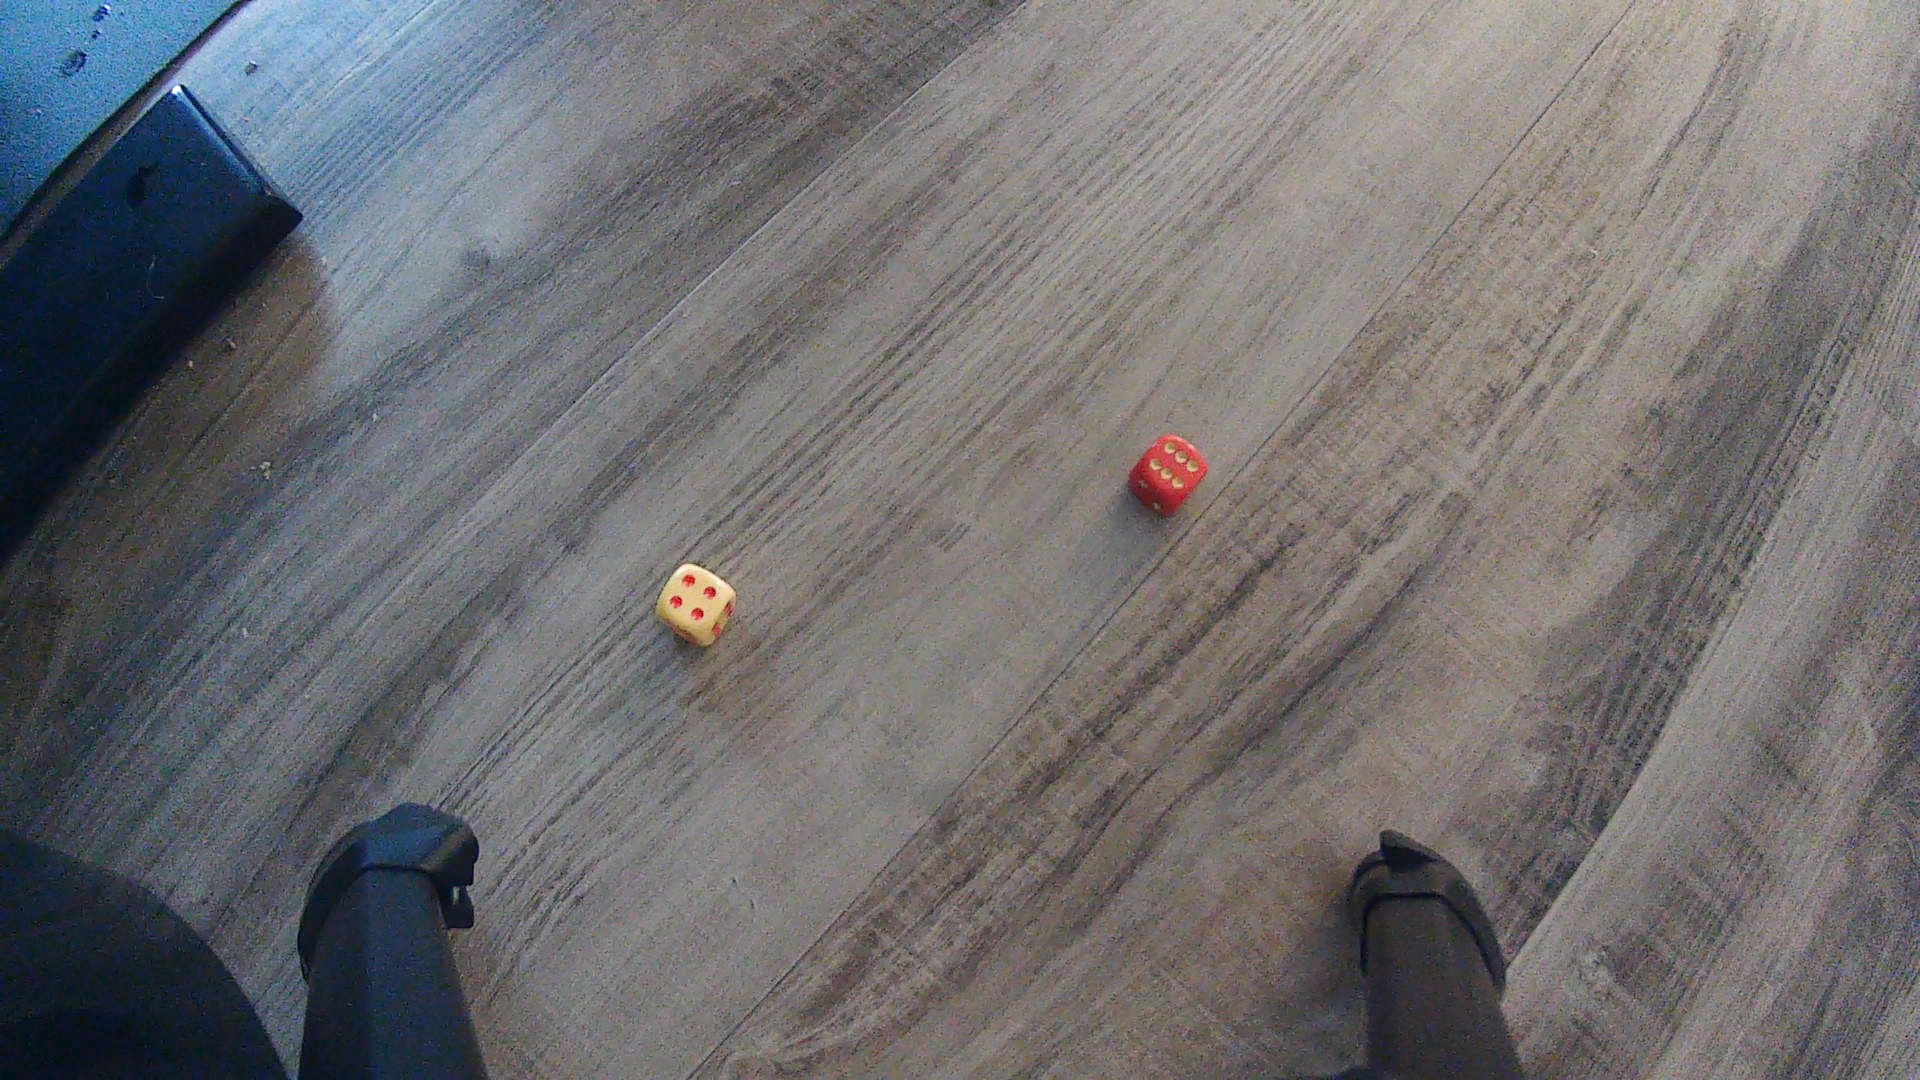die: (1127, 433, 1211, 522), (657, 563, 738, 644)
